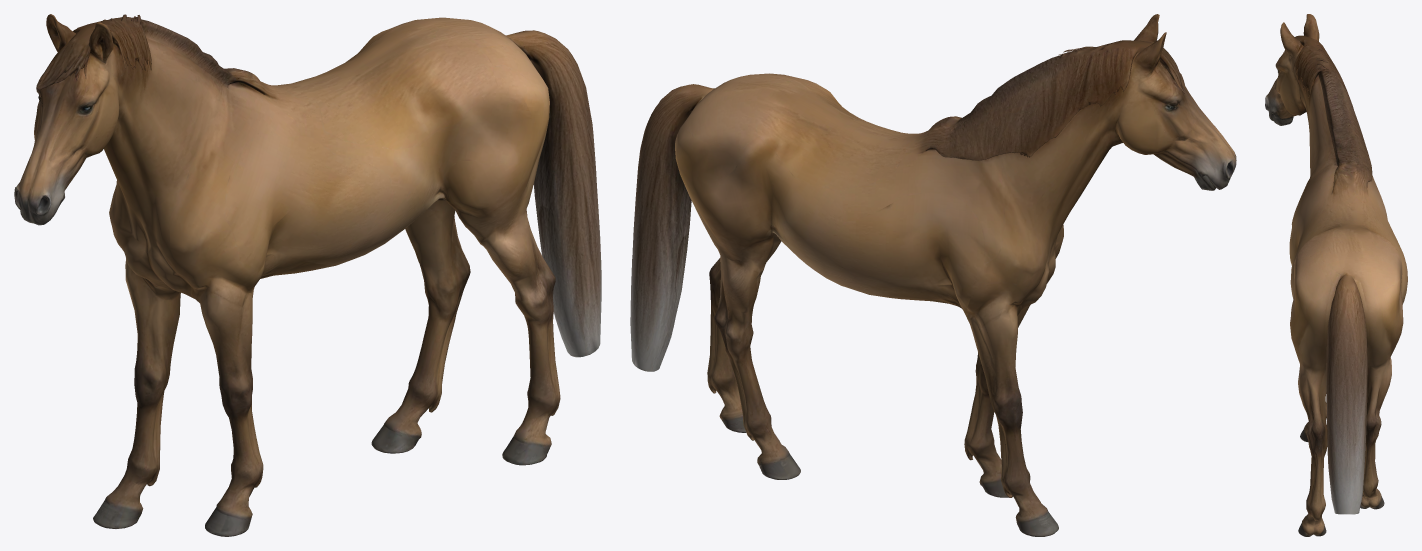
3 renders of one model, left to right at view 1: azimuth 30°, elevation 25°; view 2: azimuth 150°, elevation 25°; view 3: azimuth 270°, elevation 25°, orthographic. The views are drawn at different scales.
Parts seen in each view (by area): view 1: node_0; view 2: node_0; view 3: node_0.
Boxes of the visible parts, bbox=[...] form: node_0: bbox=[14, 14, 601, 536]; node_0: bbox=[630, 14, 1236, 536]; node_0: bbox=[1265, 14, 1407, 536].
Bounding box in the file's own units: 1.01 × 0.855 × 0.3021.
Materials: 1 (1 with a texture image).
